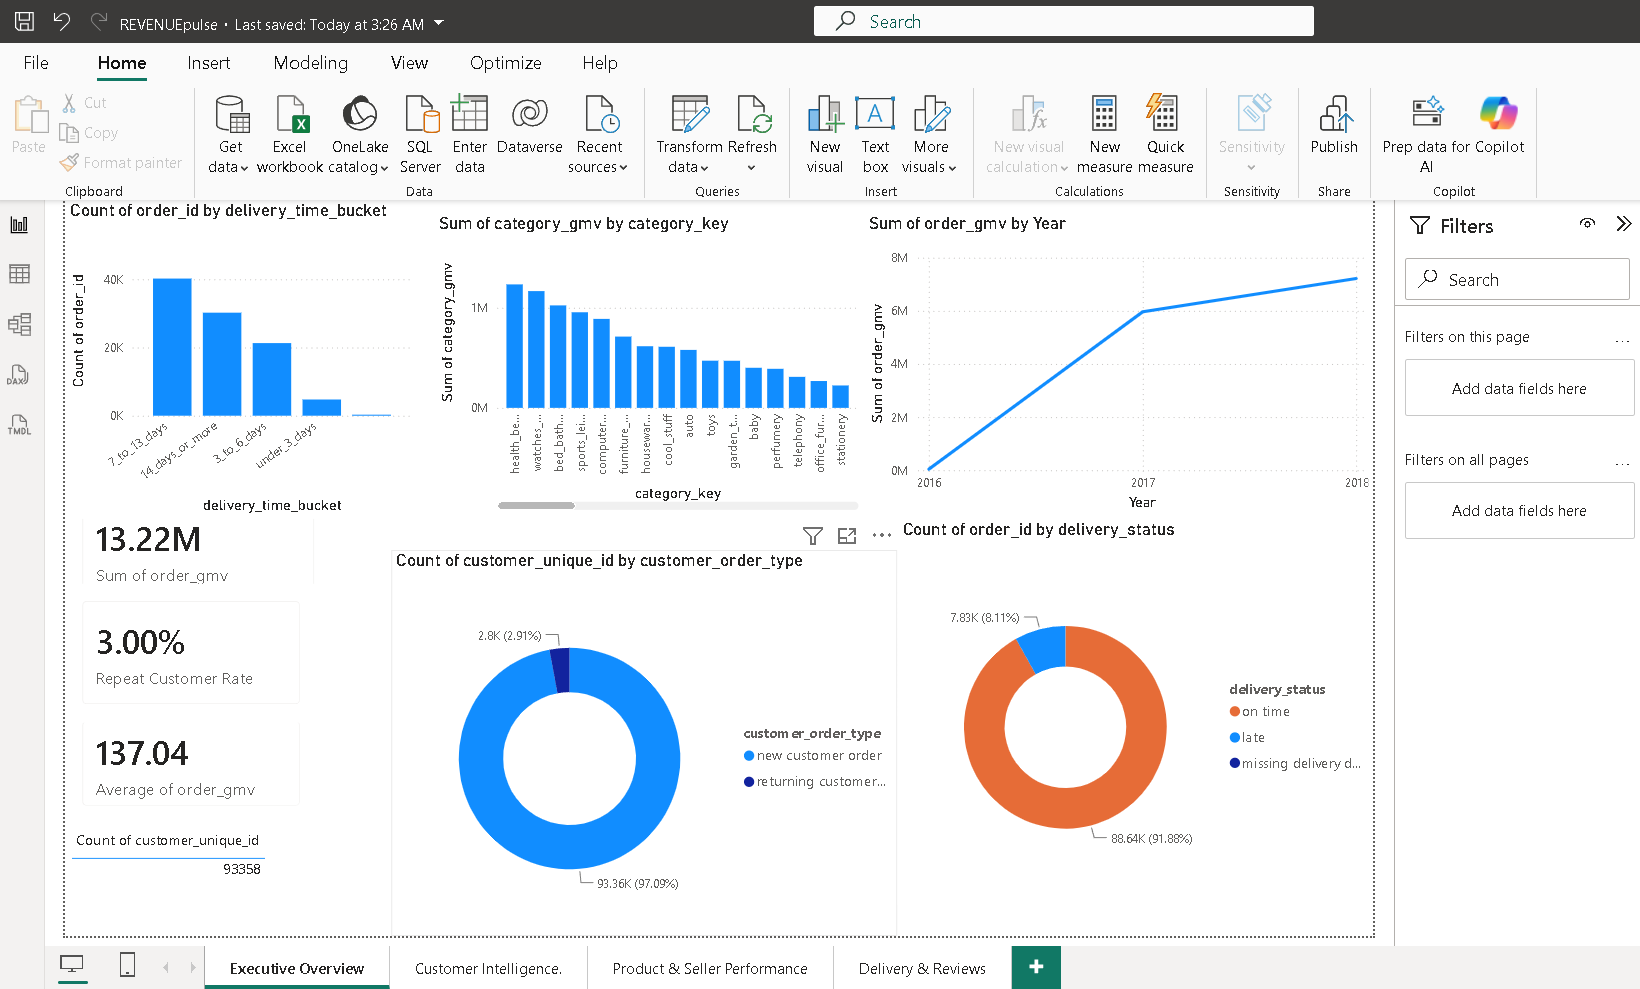

What the dashboard file says about the page in this screenshot:
{"tool":"powerbi","page":{"name":"Executive Overview","canvas":[1280,720],"ordinal":0},"visuals":[{"type":"cardVisual","fields":{"Data":["Sum(fact_order.order_gmv)"]},"box":[0,281.3,261.7,121.1],"z":0},{"type":"cardVisual","fields":{"Data":["Avg(fact_order.order_gmv)"]},"box":[0,492.8,247,117.4],"z":2000},{"type":"tableEx","fields":{"Values":["dim_customer.customer_unique_id"]},"box":[0,610.2,247,110.1],"z":2001},{"type":"cardVisual","fields":{"Data":["dim_category.Repeat Customer Rate"]},"box":[0,375.4,247,135.7],"z":2002},{"type":"lineChart","fields":{"Y":["Sum(fact_order.order_gmv)"],"Category":["dim_date.year_month.Variation.Date Hierarchy.Year"]},"box":[781.4,12.2,498.9,295.9],"z":2005},{"type":"donutChart","fields":{"Category":["fact_order.customer_order_type"],"Y":["Count(fact_order.customer_unique_id)"]},"box":[319.2,342.4,495.2,377.9],"z":2006},{"type":"clusteredColumnChart","fields":{"Category":["fact_category_economics.category_key"],"Y":["Sum(fact_category_economics.category_gmv)"]},"box":[360.7,12.2,420.7,295.9],"z":2007},{"type":"donutChart","fields":{"Category":["fact_order.delivery_status"],"Y":["Count(fact_order.order_id)"]},"box":[814.4,311.8,465.9,377.9],"z":2008},{"type":"columnChart","fields":{"Category":["fact_order.delivery_time_bucket"],"Y":["Count(fact_order.order_id)"]},"box":[0,0,344.8,311.8],"z":2009}]}

Visuals, with their boxes on the page's 1280x720 design canvas (x1, y1, x2, y2). These are canvas units, not pixel positions in the 1640x989 screenshot, which may show the page scaled, cropped or inside an application window:
cardVisual - Sum(fact_order.order_gmv): 0 281 262 402
cardVisual - Avg(fact_order.order_gmv): 0 493 247 610
tableEx - dim_customer.customer_unique_id: 0 610 247 720
cardVisual - dim_category.Repeat Customer Rate: 0 375 247 511
lineChart - Sum(fact_order.order_gmv) x dim_date.year_month.Variation.Date Hierarchy.Year: 781 12 1280 308
donutChart - fact_order.customer_order_type x Count(fact_order.customer_unique_id): 319 342 814 720
clusteredColumnChart - fact_category_economics.category_key x Sum(fact_category_economics.category_gmv): 361 12 781 308
donutChart - fact_order.delivery_status x Count(fact_order.order_id): 814 312 1280 690
columnChart - fact_order.delivery_time_bucket x Count(fact_order.order_id): 0 0 345 312
